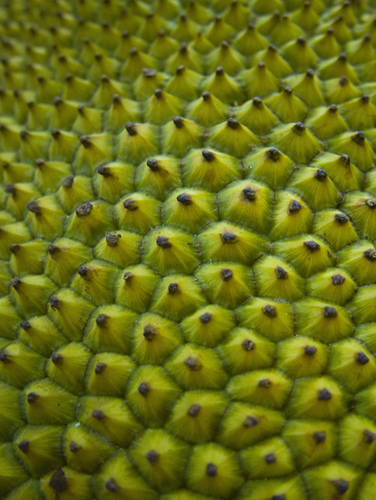jackfruit: (0, 2, 374, 497)
